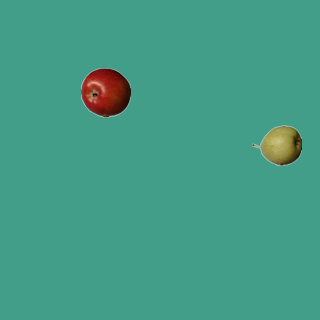Apple Braeburn: (80, 67, 130, 117)
Pear: (251, 120, 301, 170)
